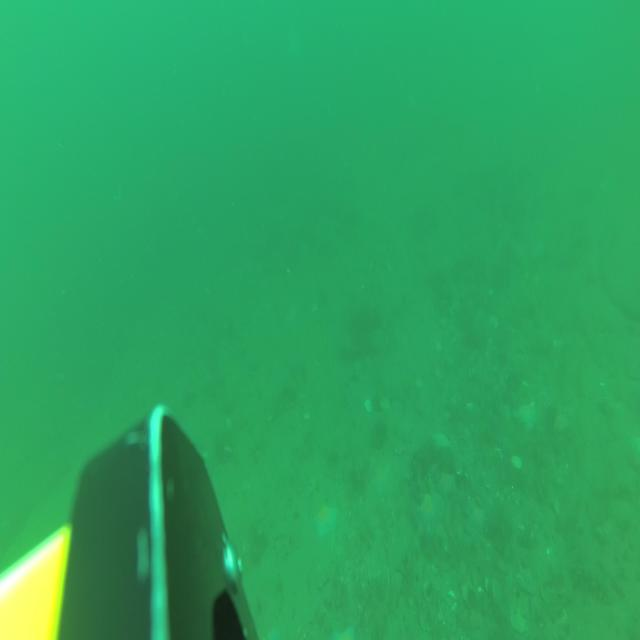holothurian: (568, 561, 616, 607)
scallop: (508, 610, 528, 634)
starfish: (312, 502, 340, 540), (516, 396, 539, 433), (415, 490, 439, 525)
